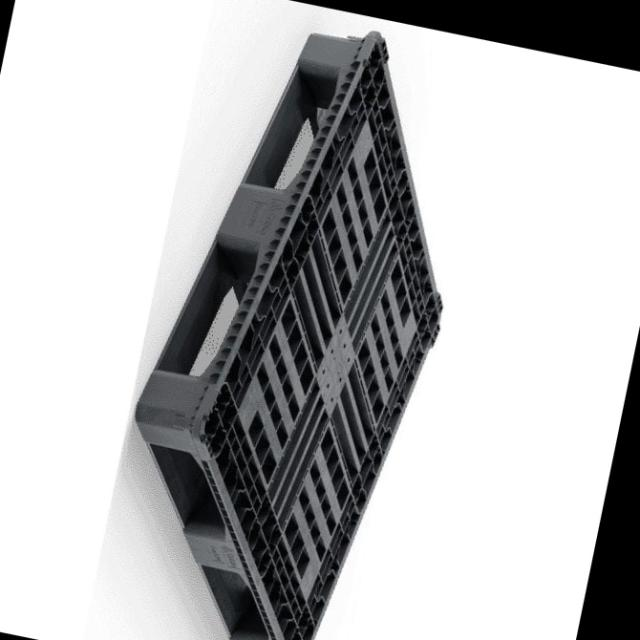non-igps: (124, 20, 450, 640)
